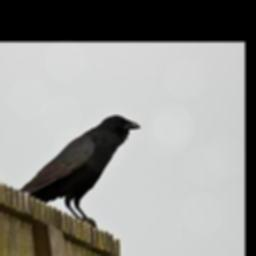Crow: (17, 112, 139, 228)
